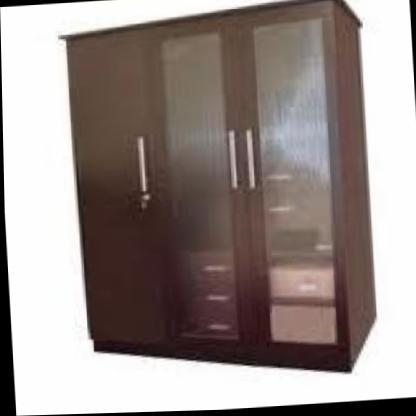Closet: (46, 0, 397, 402)
